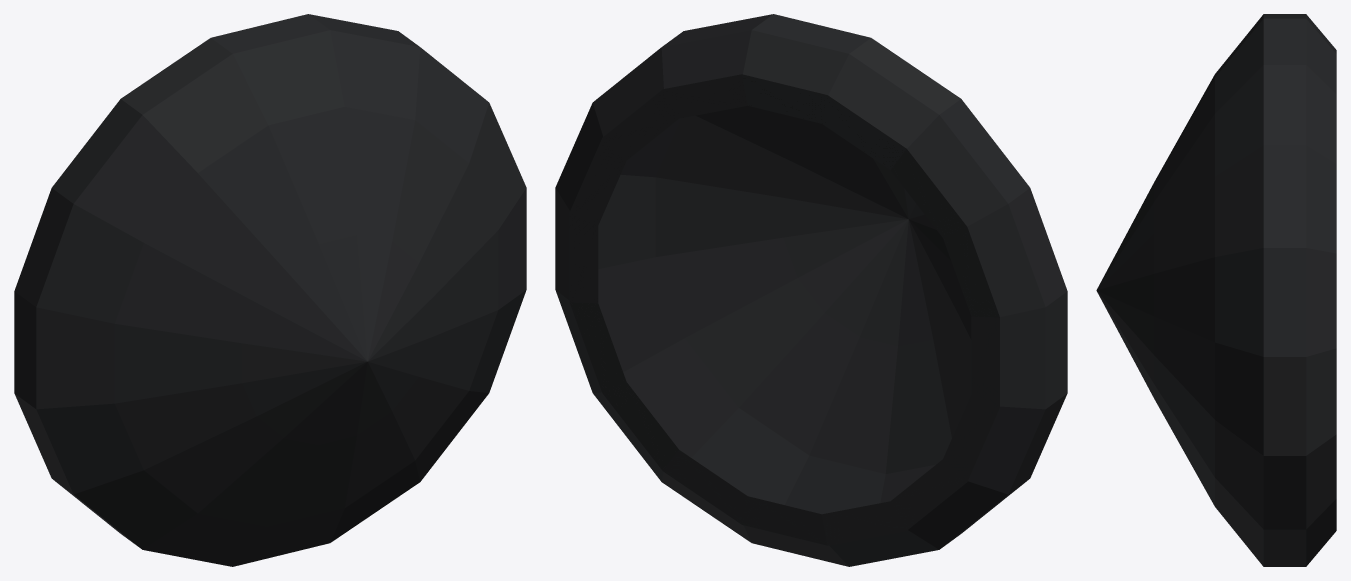
The model's file is decopole_lawestwood_cap_s.obj.
3 renders of one model, left to right at view 1: azimuth 30°, elevation 25°; view 2: azimuth 150°, elevation 25°; view 3: azimuth 270°, elevation 25°, orthographic. The views are drawn at different scales.
Parts seen in each view (by area): view 1: decopole_lawestwood_cap_s; view 2: decopole_lawestwood_cap_s; view 3: decopole_lawestwood_cap_s.
Boxes of the visible parts, x1=… form: decopole_lawestwood_cap_s: x1=14, y1=14, x2=526, y2=566; decopole_lawestwood_cap_s: x1=555, y1=14, x2=1067, y2=566; decopole_lawestwood_cap_s: x1=1096, y1=14, x2=1336, y2=566.
Size of the model in its own units: 0.564 by 0.564 by 0.2469.
